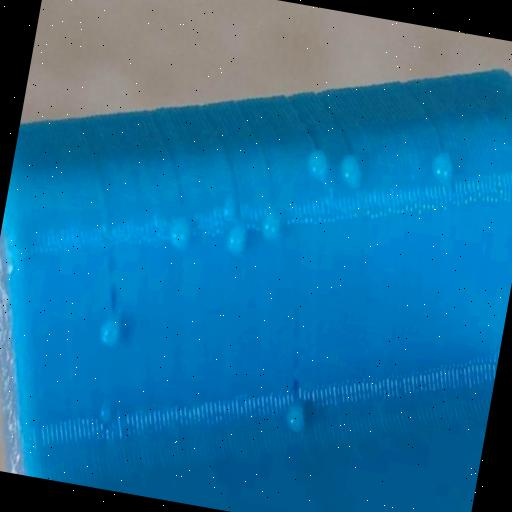blobs: (330, 146, 370, 194), (423, 145, 457, 189), (304, 145, 332, 188), (255, 210, 289, 244), (166, 216, 197, 252), (93, 318, 123, 354), (222, 220, 248, 260), (280, 402, 310, 434), (92, 400, 118, 426), (220, 194, 242, 218)
